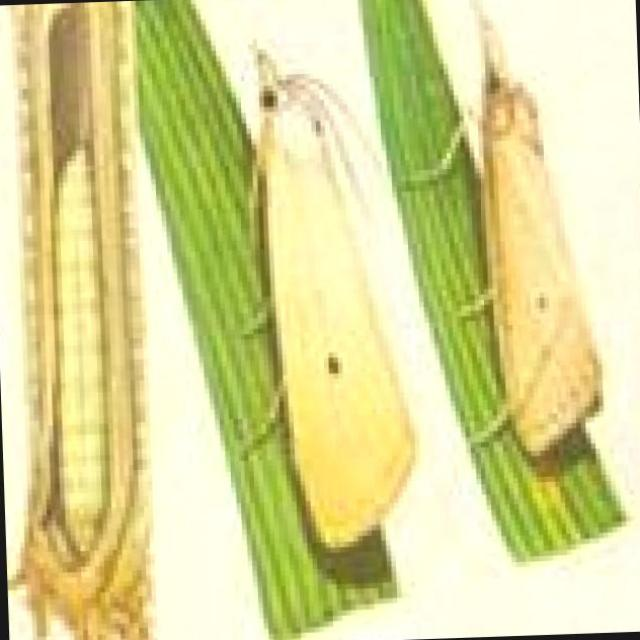stem borer: (11, 2, 150, 640), (256, 45, 412, 543), (474, 12, 599, 454)
